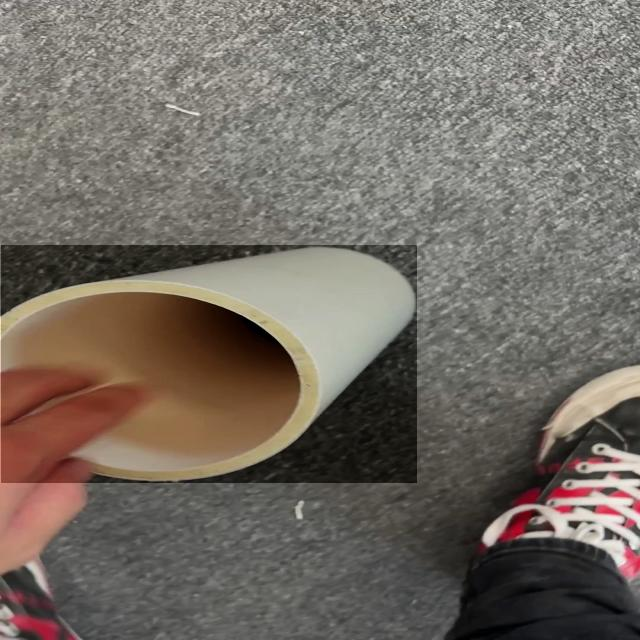Coral: (1, 245, 417, 483)
